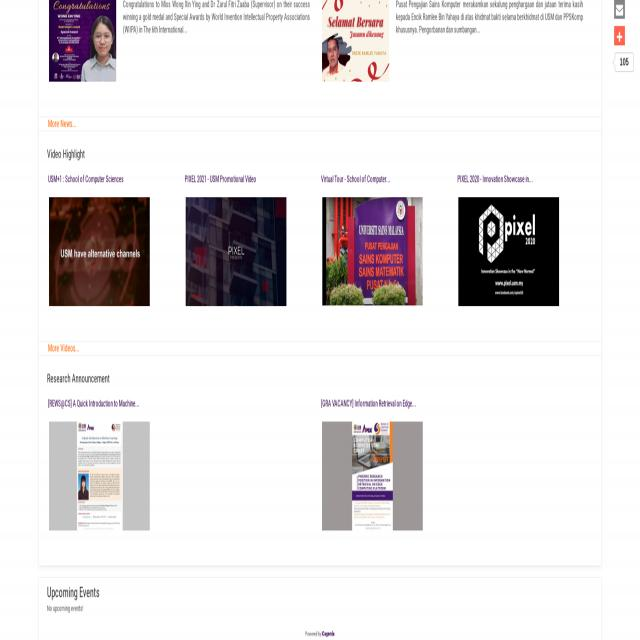button: (49, 197, 150, 306), (322, 197, 423, 306), (49, 422, 150, 530), (322, 422, 423, 530), (459, 197, 559, 306), (186, 197, 286, 306), (322, 0, 389, 82), (50, 0, 116, 82), (614, 0, 625, 20), (614, 27, 625, 47)
field: (615, 52, 634, 72)
